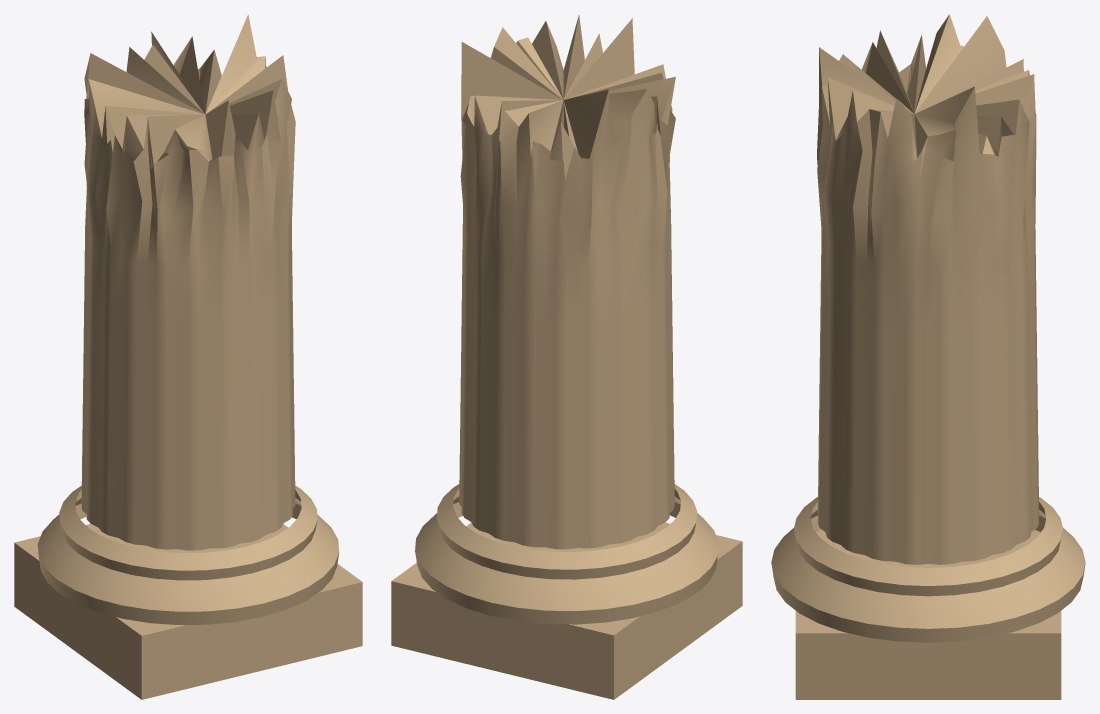
File: column_passage_short.glb
The picture shows the model from 3 angles, left to right: view 1: azimuth 30°, elevation 25°; view 2: azimuth 150°, elevation 25°; view 3: azimuth 270°, elevation 25°; orthographic projection. The views are drawn at different scales.
Parts seen in each view (by area): view 1: column_passage_short; view 2: column_passage_short; view 3: column_passage_short.
Boxes of the visible parts, bbox=[...] form: column_passage_short: bbox=[14, 14, 362, 699]; column_passage_short: bbox=[391, 14, 742, 699]; column_passage_short: bbox=[771, 14, 1085, 699].
Bounding box in the file's own units: 1.54 × 3.24 × 1.54.
